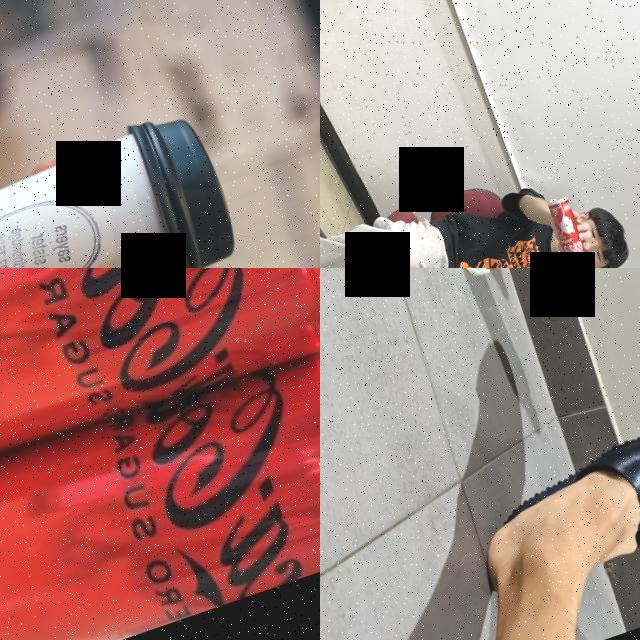can: (0, 326, 320, 640), (0, 268, 320, 517), (544, 193, 589, 268)
cup: (0, 101, 249, 268)
